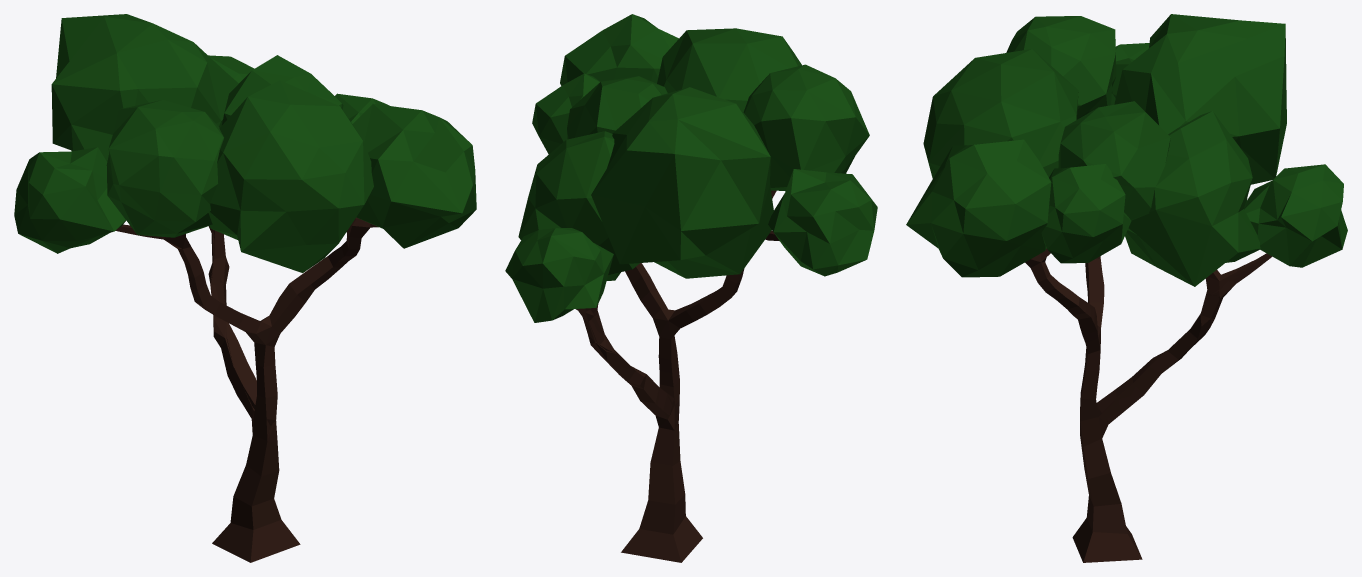
File: Tree.fbx
3 renders of one model, left to right at view 1: azimuth 30°, elevation 25°; view 2: azimuth 150°, elevation 25°; view 3: azimuth 270°, elevation 25°, orthographic. The views are drawn at different scales.
Parts seen in each view (by area): view 1: Tree.009; view 2: Tree.009; view 3: Tree.009.
Part boxes in pixels (<box>): Tree.009: <box>14,14,476,562</box>; Tree.009: <box>505,14,877,562</box>; Tree.009: <box>906,14,1347,562</box>.
Size of the model in its own units: 364 by 464 by 378.
